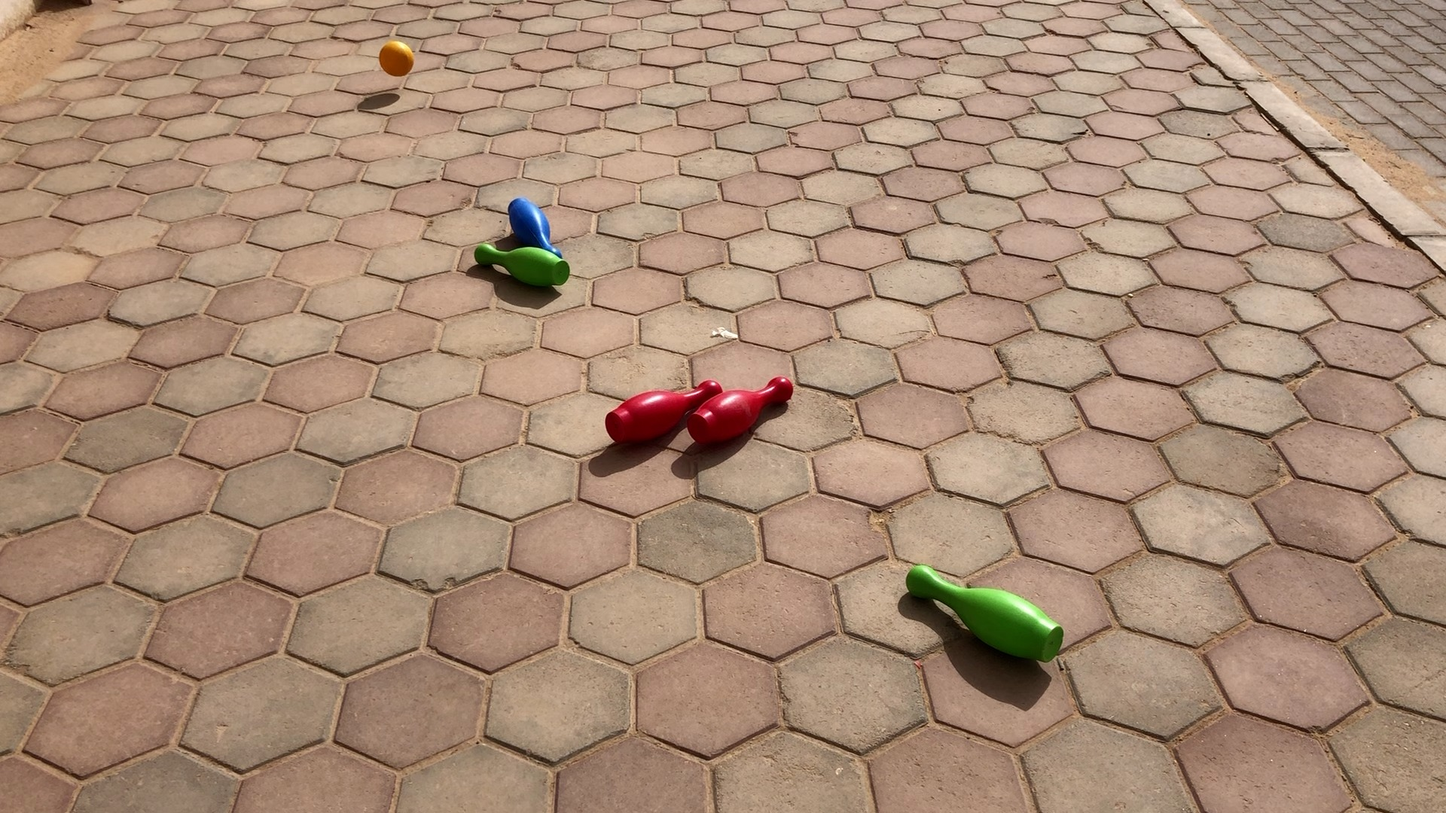pin: (908, 565, 1062, 659), (682, 376, 792, 446), (607, 379, 712, 443), (475, 242, 572, 288), (507, 196, 555, 252)
